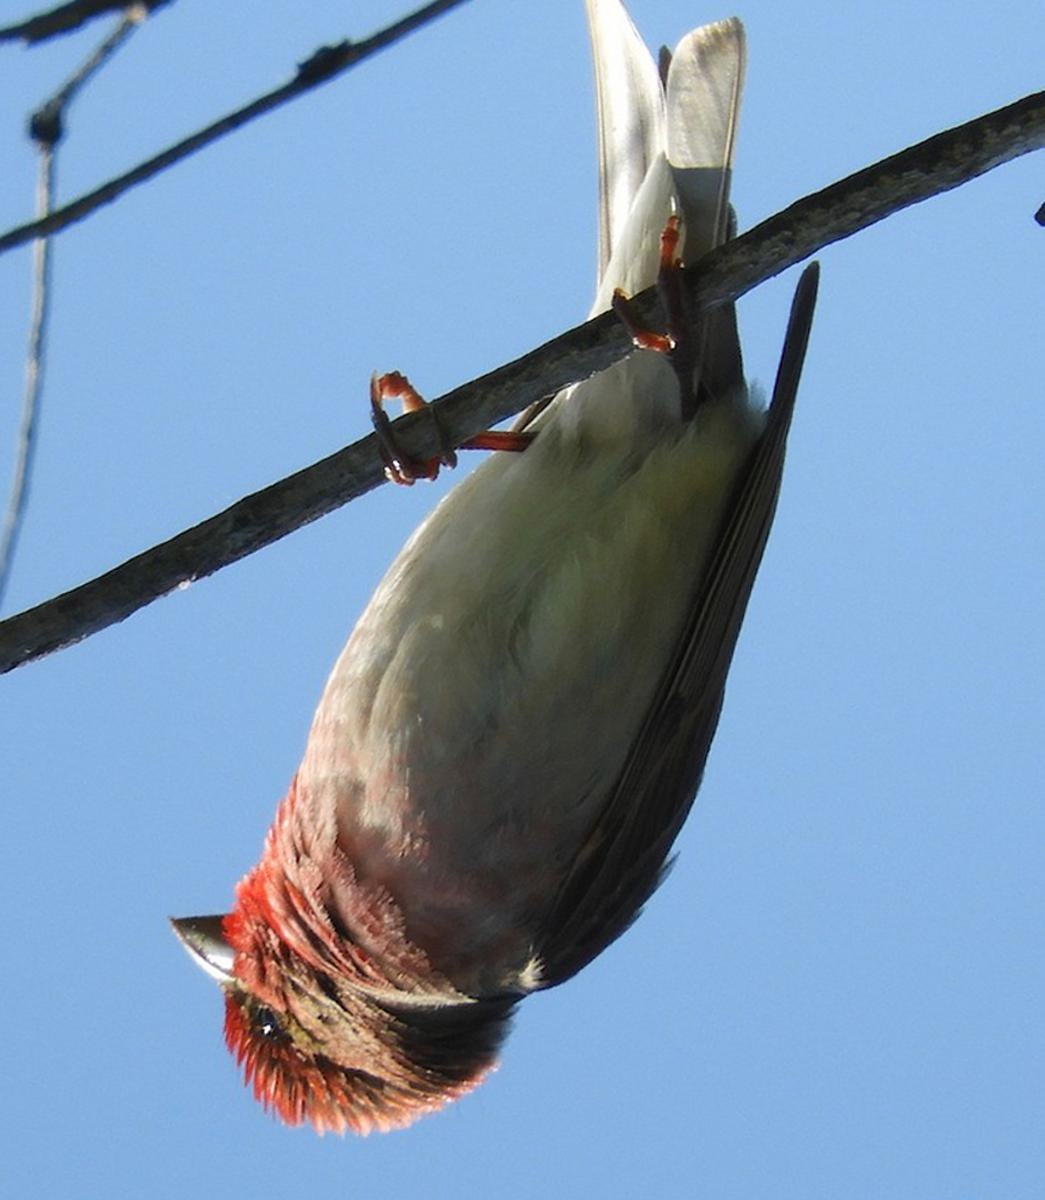rosefinch: (181, 124, 878, 1128)
